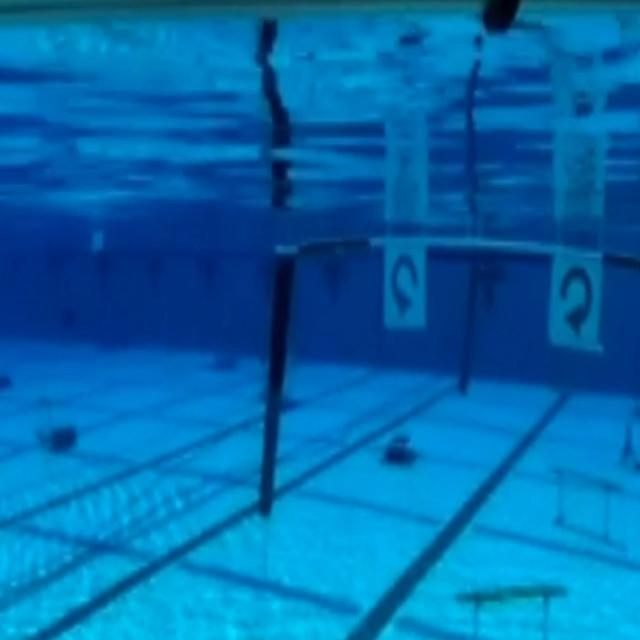Gate: (259, 232, 632, 530)
